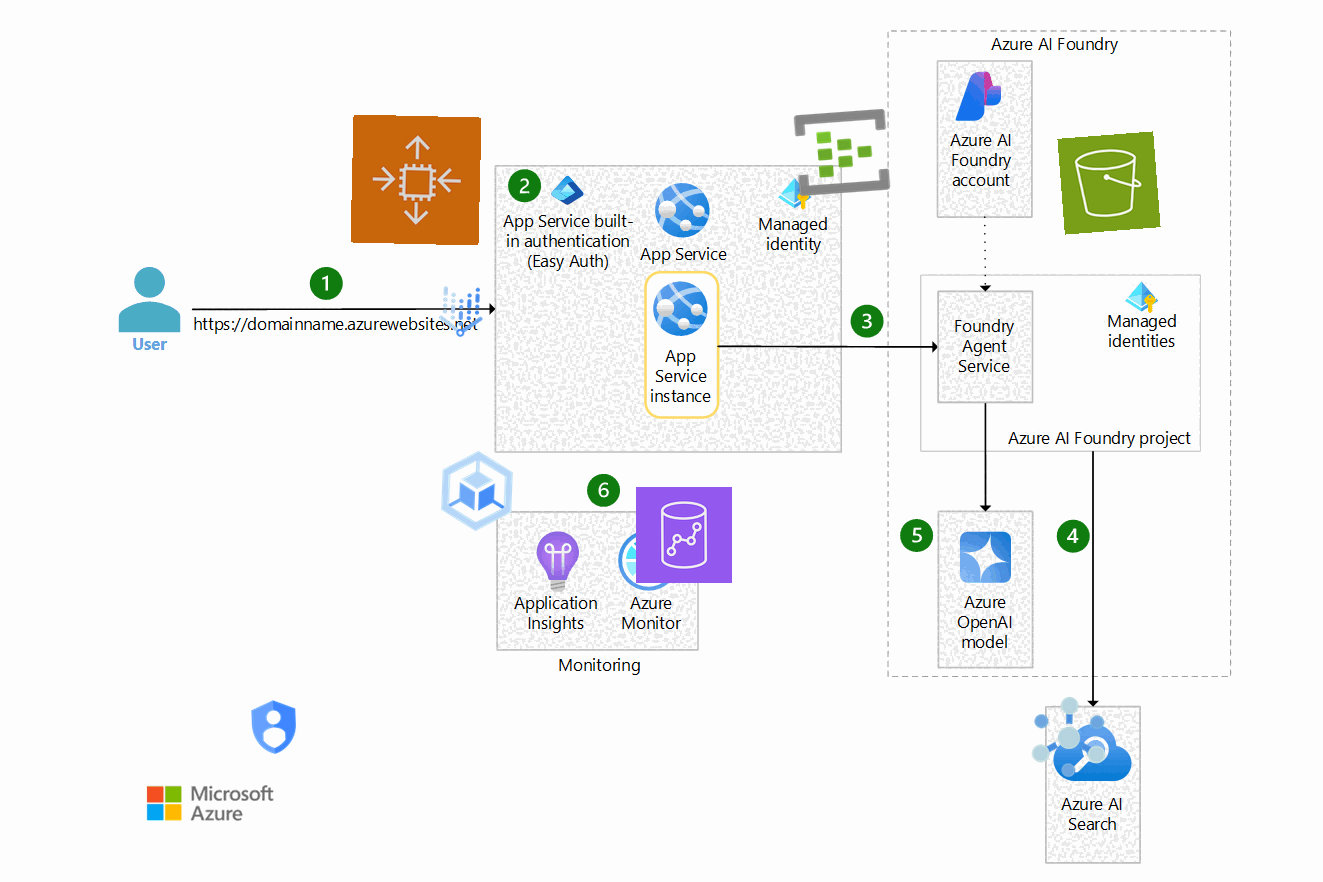aws_amazon_ec2_auto_scaling: (350, 114, 482, 246)
aws_amazon_redshift: (635, 486, 733, 584)
aws_amazon_simple_storage_service: (1057, 131, 1161, 235)
azure_event_hubs: (790, 100, 894, 204)
gcp_google_kubernetes_engine: (427, 441, 527, 541)
gcp_identity_and_access_management: (240, 693, 308, 761)
gcp_pubsub: (1019, 687, 1119, 787)
gcp_vertex_ai: (427, 278, 495, 346)
